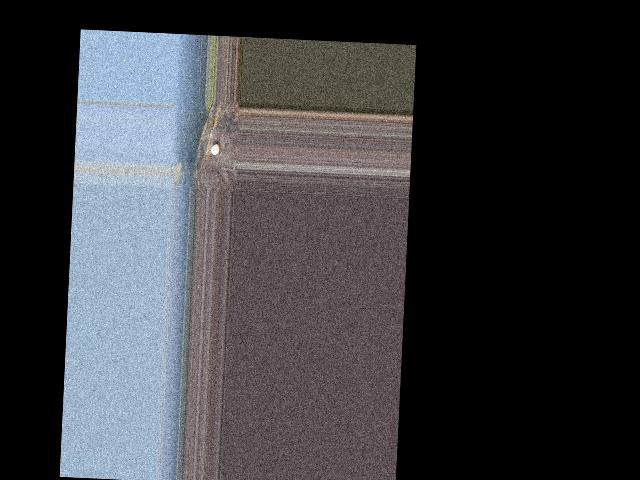egg: (210, 144, 220, 155)
